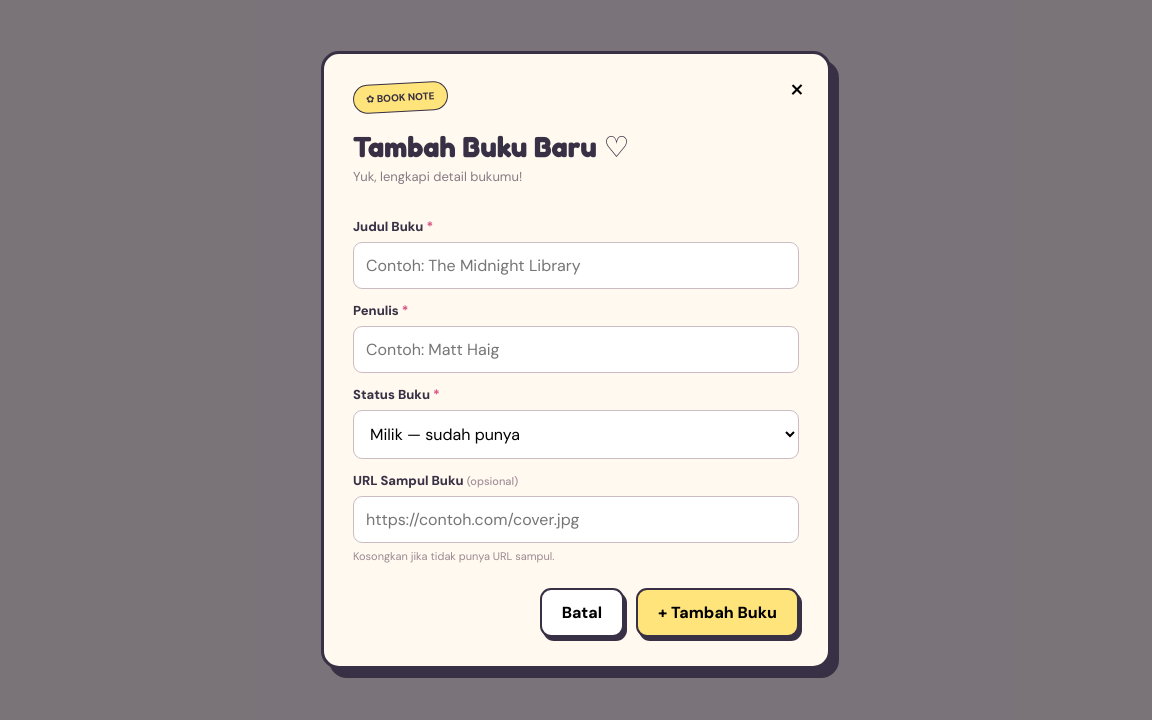
Test case: BookForm › menampilkan validasi ketika judul dan penulis kosong
Step 1. Click the button "+ Tambah Buku" → x=718, y=612, box [636, 588, 799, 637]
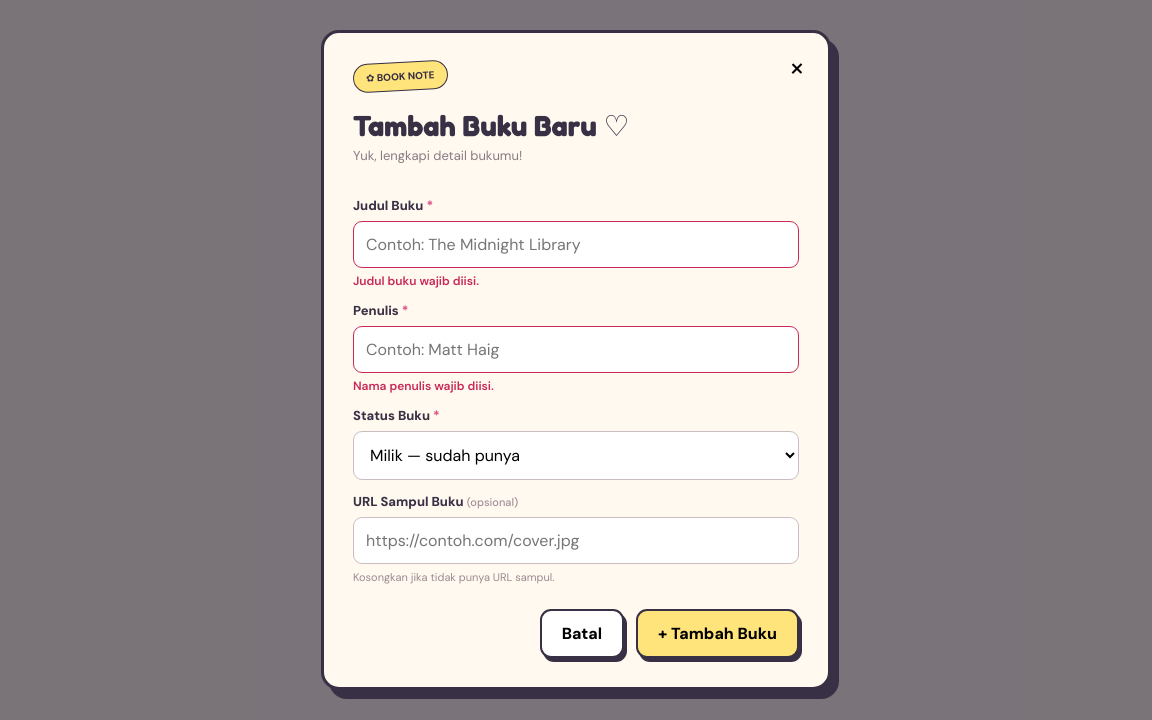
Check: the text "Judul buku wajib diisi." is shown, box [353, 273, 479, 289]
Check: the text "Nama penulis wajib diisi." is shown, box [353, 378, 494, 394]
